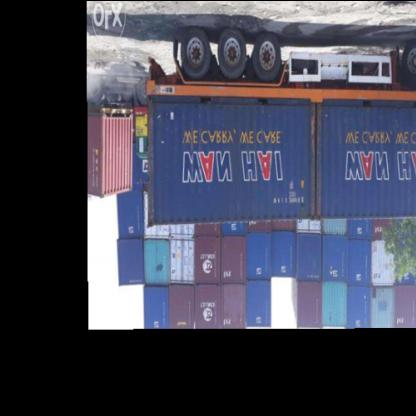Damage: (300, 98, 328, 228), (138, 91, 160, 231)
